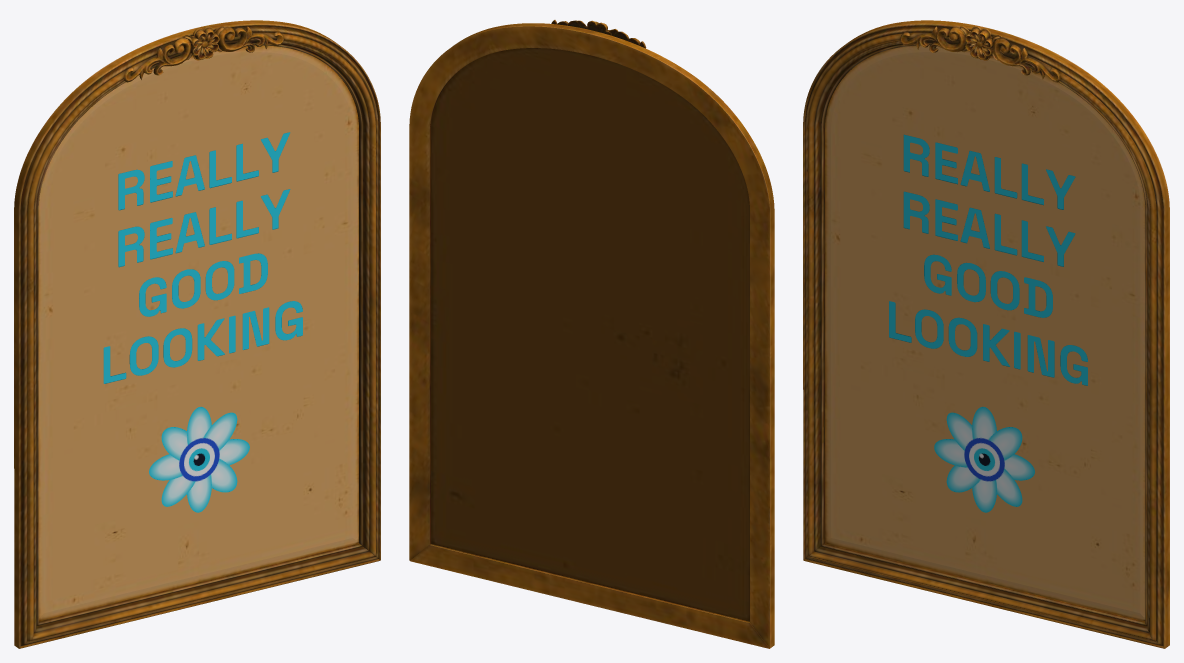
The model's file is nyb_zoo_mirror.glb.
3 views of the same model, side by side, from view 1: azimuth 30°, elevation 25°; view 2: azimuth 150°, elevation 25°; view 3: azimuth 330°, elevation 25° (orthographic).
Visible parts, largest first — view 1: ornate_mirror_01, stk_lbl_96d309e6b3.png, stk_eyeflower_cyan.png; view 2: ornate_mirror_01; view 3: ornate_mirror_01, stk_lbl_96d309e6b3.png, stk_eyeflower_cyan.png.
Boxes of the visible parts, box(x1,y1,x2,y2) form: ornate_mirror_01: box(14, 20, 380, 648); stk_lbl_96d309e6b3.png: box(103, 132, 302, 383); stk_eyeflower_cyan.png: box(149, 406, 249, 512); ornate_mirror_01: box(409, 20, 774, 648); ornate_mirror_01: box(803, 20, 1169, 648); stk_lbl_96d309e6b3.png: box(889, 134, 1087, 385); stk_eyeflower_cyan.png: box(934, 406, 1034, 512).
Bounding box in the file's own units: 0.4865 × 0.7442 × 0.0264.
3 materials, 3 textured.
